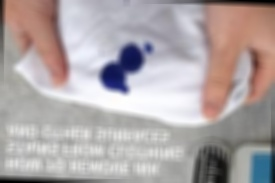ink: (100, 62, 129, 95), (119, 46, 145, 72), (145, 42, 152, 55)
